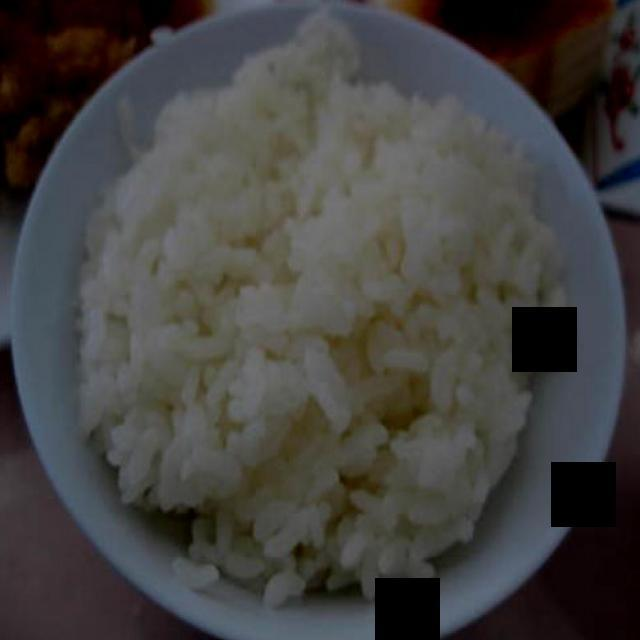rice: (75, 5, 581, 612)
